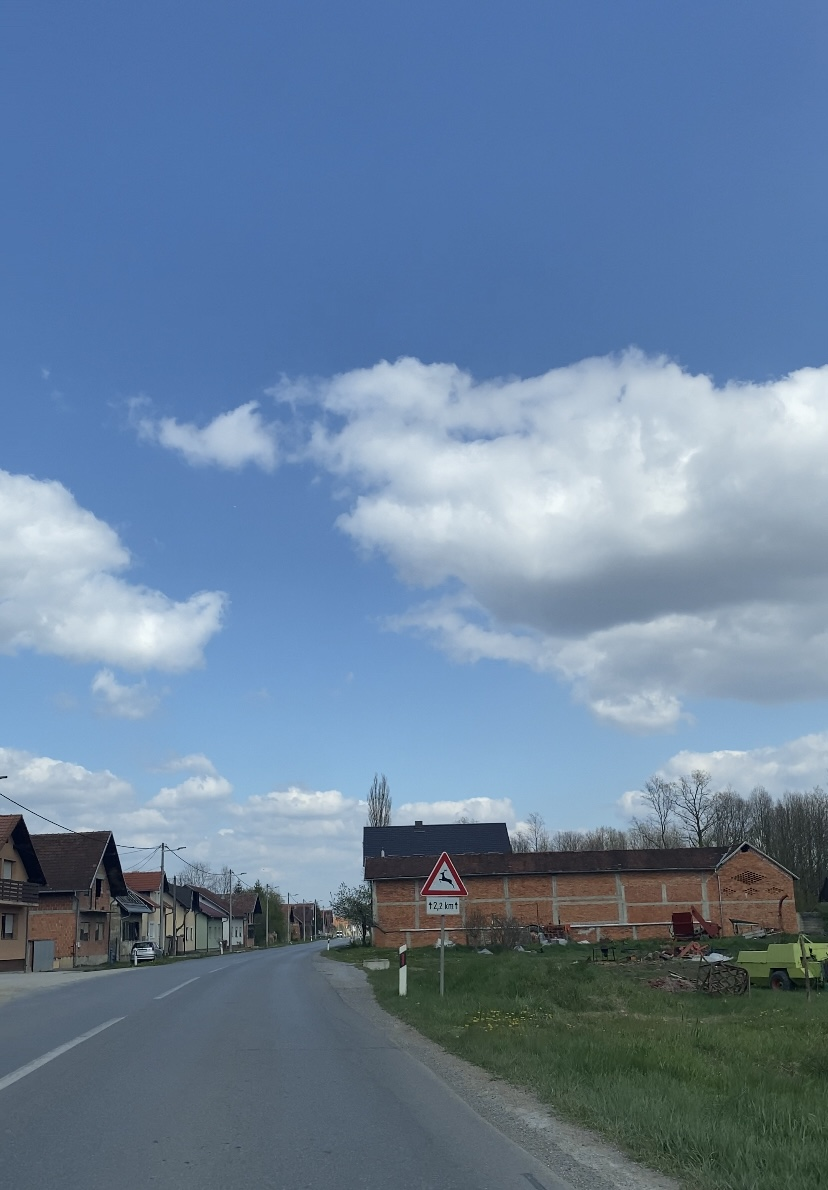Divljač na cesti: (420, 851, 468, 897)
